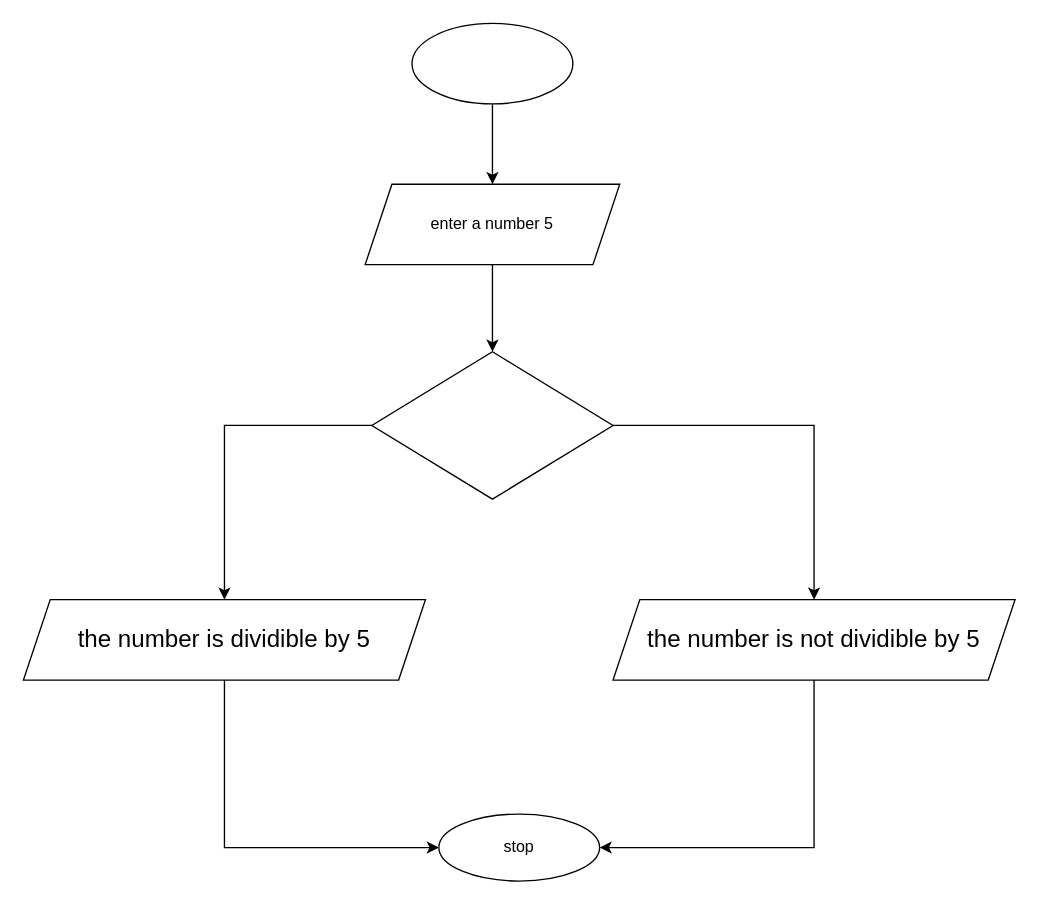
Some shapes in this 1039 by 905 pixel diagram are drawn without their labels. The centre of each missing label's shape, as x and y in pixels:
if num % 5 == 0: the point at 492,424
start: the point at 492,63
